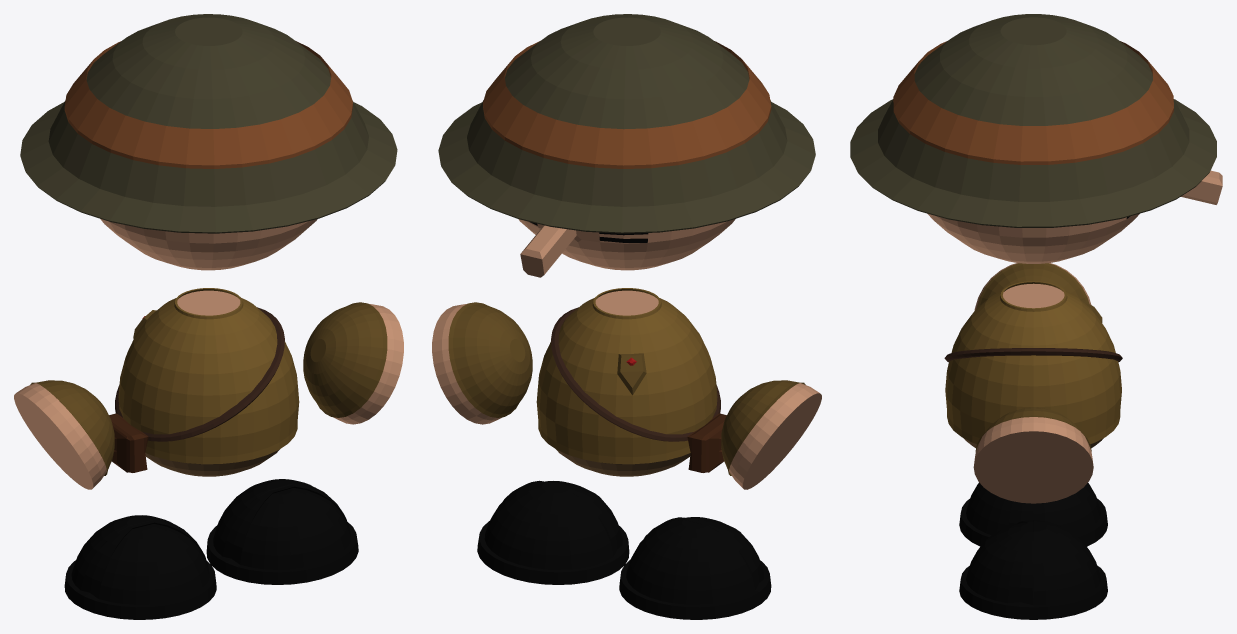
Rendered from theGuyDessert.fbx.
3 renders of one model, left to right at view 1: azimuth 30°, elevation 25°; view 2: azimuth 150°, elevation 25°; view 3: azimuth 270°, elevation 25°, orthographic. The views are drawn at different scales.
Visible parts, largest first — view 1: head, torso, leg1, leg1.001, hand1, hand1.001, bagofmeth; view 2: head, torso, leg1, leg1.001, hand1, hand1.001, bagofmeth; view 3: head, torso, leg1, hand1, leg1.001, hand1.001, bagofmeth.
Part boxes in pixels (bbox=[...]): head: bbox=[20, 14, 397, 270]; torso: bbox=[118, 288, 299, 476]; leg1: bbox=[206, 479, 358, 584]; leg1.001: bbox=[64, 515, 216, 619]; hand1: bbox=[303, 302, 403, 424]; hand1.001: bbox=[14, 380, 114, 489]; bagofmeth: bbox=[109, 307, 284, 472]; head: bbox=[438, 14, 815, 277]; torso: bbox=[536, 288, 717, 476]; leg1: bbox=[477, 480, 629, 584]; leg1.001: bbox=[619, 517, 771, 619]; hand1: bbox=[432, 302, 532, 424]; hand1.001: bbox=[721, 380, 821, 489]; bagofmeth: bbox=[551, 307, 726, 472]; head: bbox=[850, 14, 1222, 263]; torso: bbox=[945, 281, 1121, 447]; leg1: bbox=[959, 520, 1107, 619]; hand1: bbox=[973, 407, 1093, 503]; leg1.001: bbox=[959, 482, 1107, 546]; hand1.001: bbox=[974, 263, 1091, 310]; bagofmeth: bbox=[944, 348, 1122, 362].
Size of the model in its own units: 2.1 by 1.93 by 3.01.
